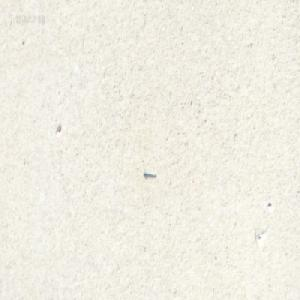Nail: (142, 168, 156, 177)
